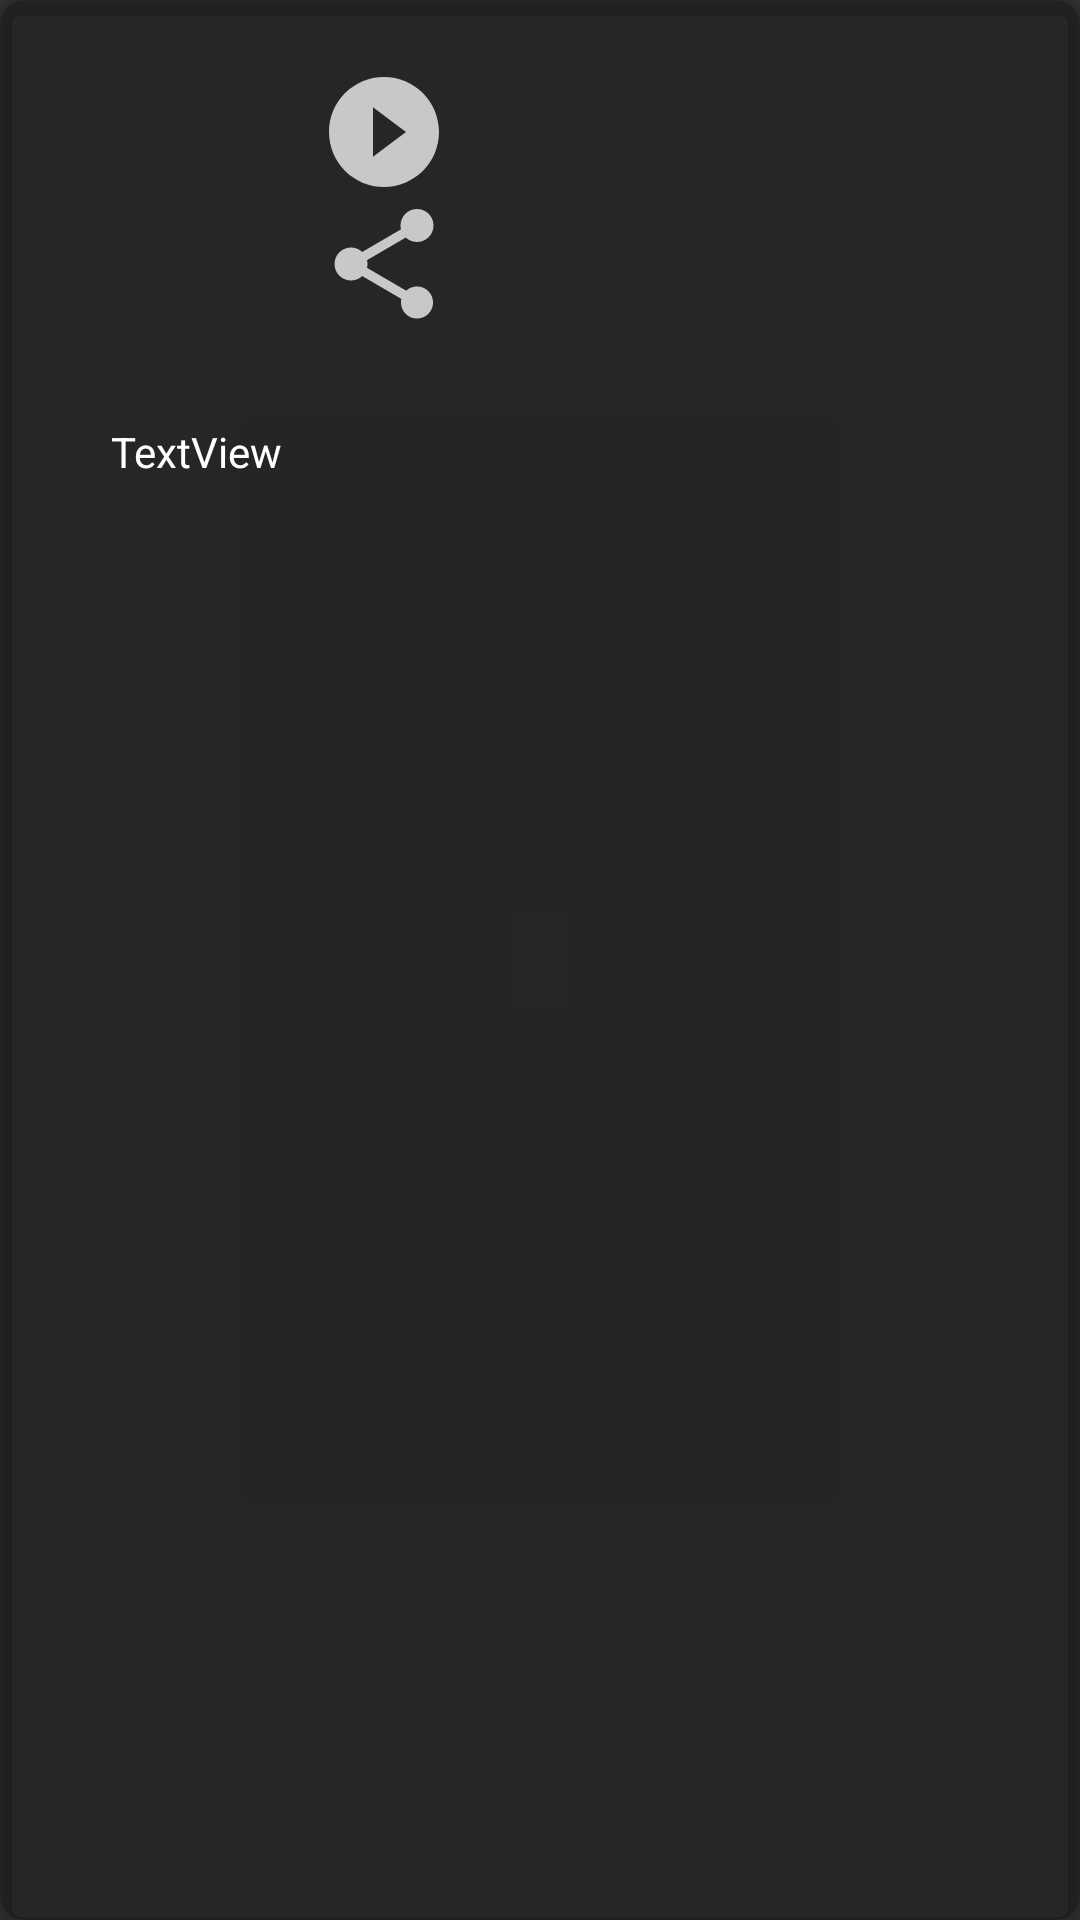

Where to tap for icons on this 1080 x 1920 app screen, as point (x, y):
play circle: point (384, 132)
share: point (384, 264)
